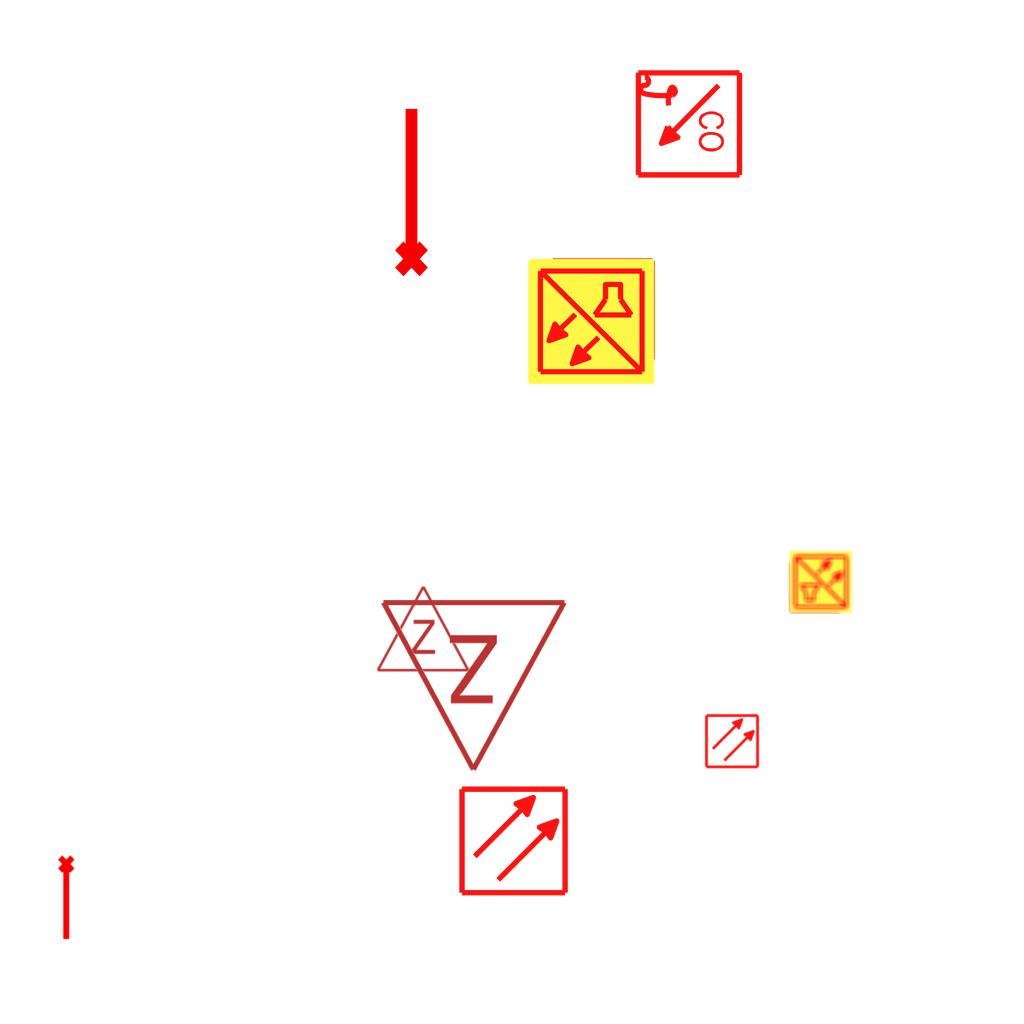ASR_Ansaugoeffnung: (386, 103, 432, 279), (56, 854, 79, 942)
OKW_Multisensormelder_(Kombination_optischer_Rauch-Kahlenmonoxid_Waerme-Melder): (525, 255, 657, 387), (788, 549, 854, 615)
RMO_Rauchmelder_optischer: (457, 784, 570, 897), (704, 713, 760, 769)
ROA_Rauchmelder_optisch_mit_Signalgeber_(Sockelsirene): (631, 68, 744, 181)
Zimmersignalleuchte: (378, 585, 574, 785), (373, 579, 471, 679)
